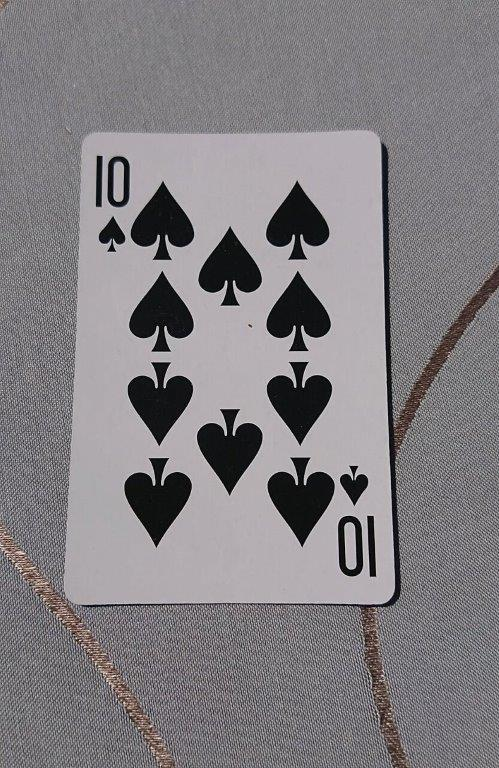10S: (61, 128, 399, 607)
